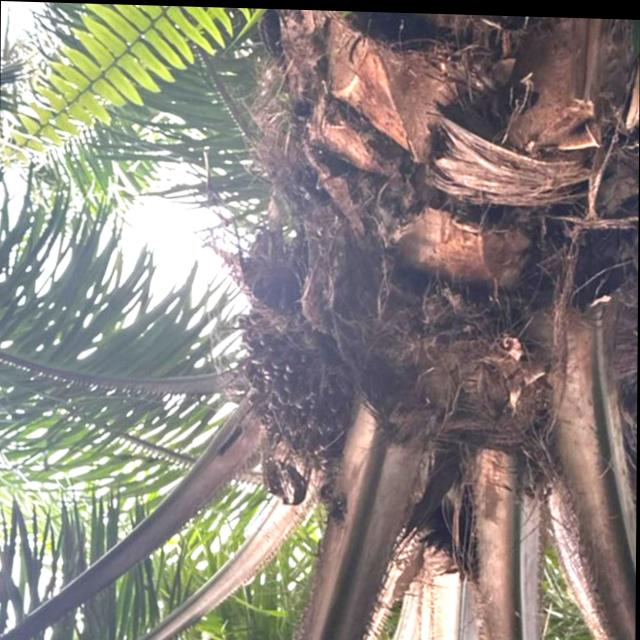ripe: (224, 268, 375, 496)
